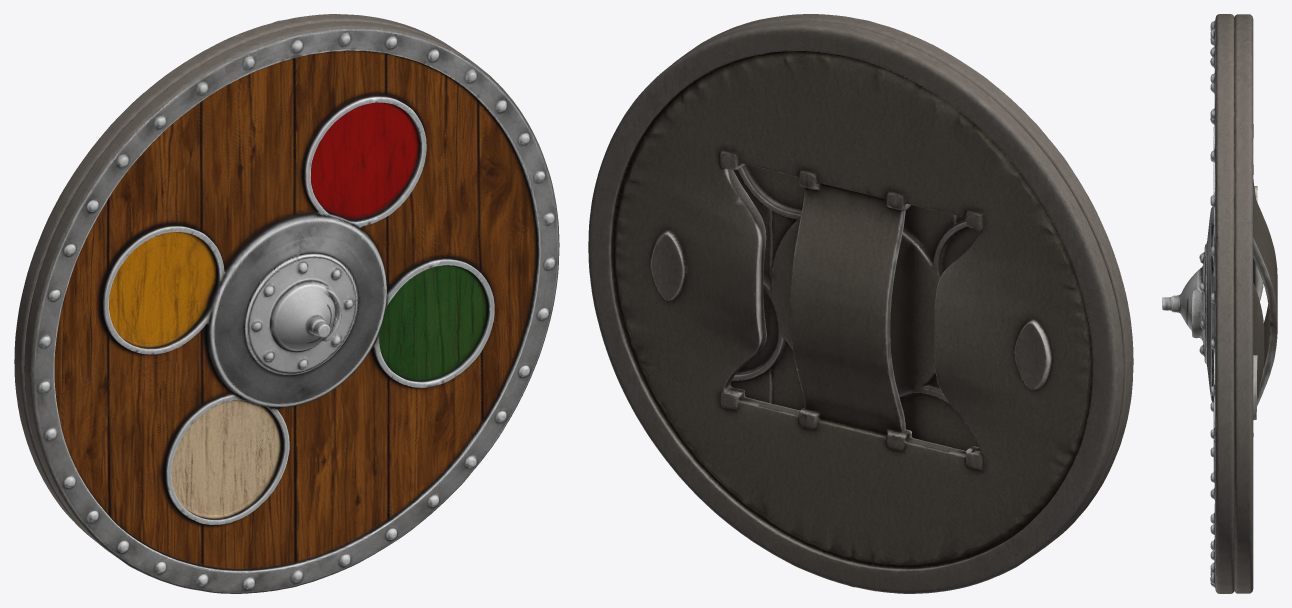
File: ShieldMain.glb
The picture shows the model from 3 angles, left to right: view 1: azimuth 30°, elevation 25°; view 2: azimuth 150°, elevation 25°; view 3: azimuth 270°, elevation 25°; orthographic projection. The views are drawn at different scales.
Parts seen in each view (by area): view 1: Meshy_AI_Chromatic_Bulwark_20261021_texture.001; view 2: Meshy_AI_Chromatic_Bulwark_20261021_texture.001; view 3: Meshy_AI_Chromatic_Bulwark_20261021_texture.001.
Part boxes in pixels (x1,y1,x2,y2): Meshy_AI_Chromatic_Bulwark_20261021_texture.001: (14,14,559,593); Meshy_AI_Chromatic_Bulwark_20261021_texture.001: (588,14,1133,593); Meshy_AI_Chromatic_Bulwark_20261021_texture.001: (1162,14,1277,593).
Bounding box in the file's own units: 1.9 × 1.9 × 0.3769.
1 material, 1 textured.
